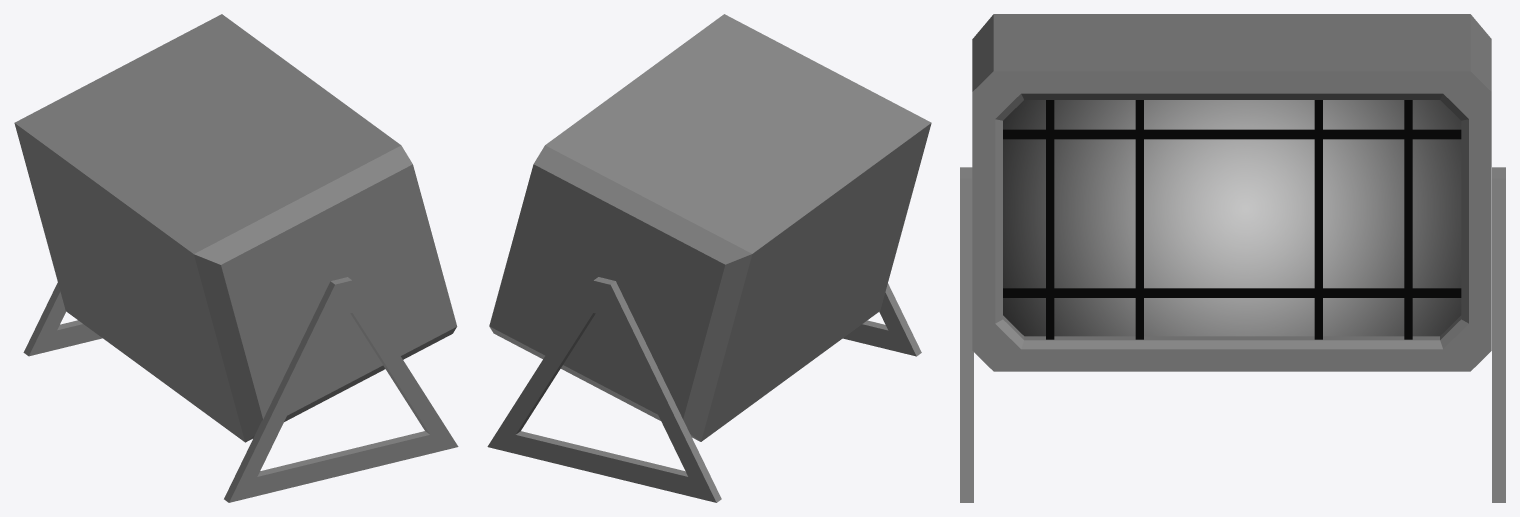
Rendered from Area_light.fbx.
3 renders of one model, left to right at view 1: azimuth 30°, elevation 25°; view 2: azimuth 150°, elevation 25°; view 3: azimuth 270°, elevation 25°, orthographic. The views are drawn at different scales.
Visible parts, largest first — view 1: Area_Light; view 2: Area_Light; view 3: Area_Light.
Boxes of the visible parts, left/top/right/bottom form: Area_Light: left=14, top=14, right=458, bottom=502; Area_Light: left=487, top=14, right=931, bottom=502; Area_Light: left=960, top=14, right=1505, bottom=502.
Bounding box in the file's own units: 1.3 × 1.46 × 1.79.
Materials: 1 (1 with a texture image).
